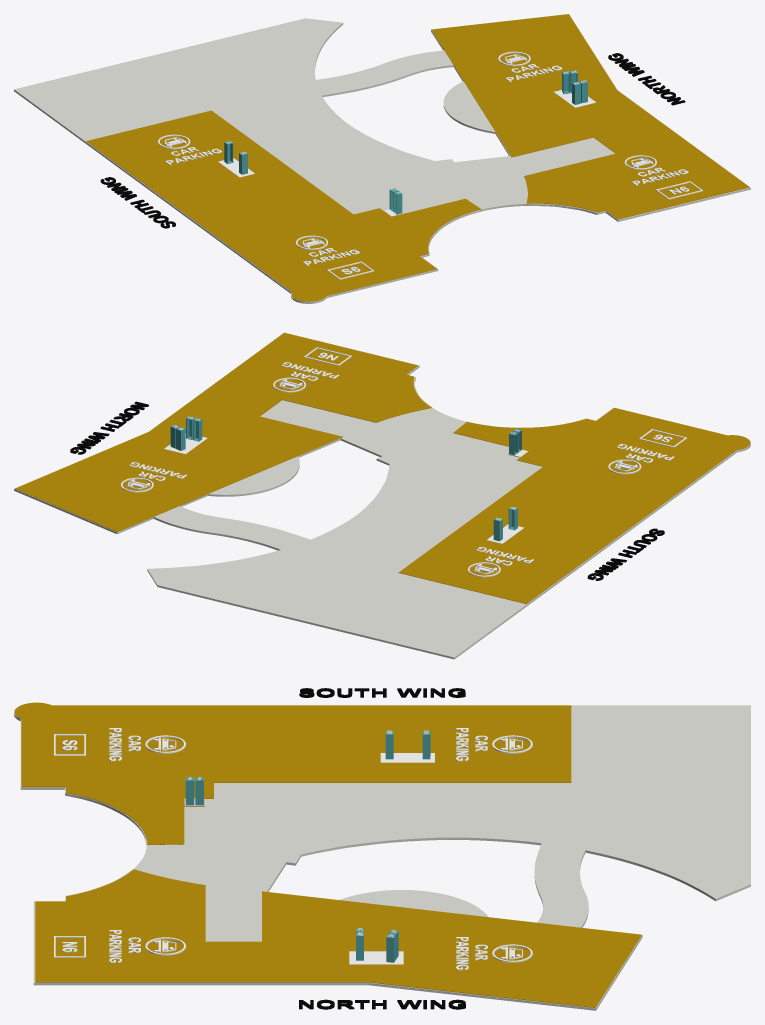
File: floor-6.gltf
3 renders of one model, top to bottom at view 1: azimuth 30°, elevation 25°; view 2: azimuth 150°, elevation 25°; view 3: azimuth 270°, elevation 25°, orthographic. The views are drawn at different scales.
Visible parts, largest first — view 1: Shape005, Line958, Line957, Text160, Text073; view 2: Shape005, Line958, Line957, Text160, Text073; view 3: Shape005, Line957, Line958, Text073, Text160, Line989, Text182, Text181, Text184, Text185.
Boxes of the visible parts, x1,y1,x2,y2 form: Shape005: [14, 14, 750, 303]; Line958: [86, 110, 481, 301]; Line957: [431, 14, 749, 219]; Text160: [608, 53, 685, 105]; Text073: [100, 177, 175, 228]; Shape005: [14, 332, 750, 659]; Line958: [398, 408, 750, 603]; Line957: [15, 332, 431, 531]; Text160: [70, 401, 148, 454]; Text073: [587, 528, 664, 580]; Shape005: [14, 705, 750, 1010]; Line957: [35, 869, 641, 1007]; Line958: [14, 702, 571, 844]; Text073: [299, 688, 465, 697]; Text160: [299, 999, 465, 1009]; Line989: [349, 951, 403, 964]; Text182: [109, 728, 140, 761]; Text181: [456, 728, 487, 761]; Text184: [456, 937, 487, 970]; Text185: [109, 930, 140, 962].
Size of the model in its own units: 117 by 4.79 by 113.
